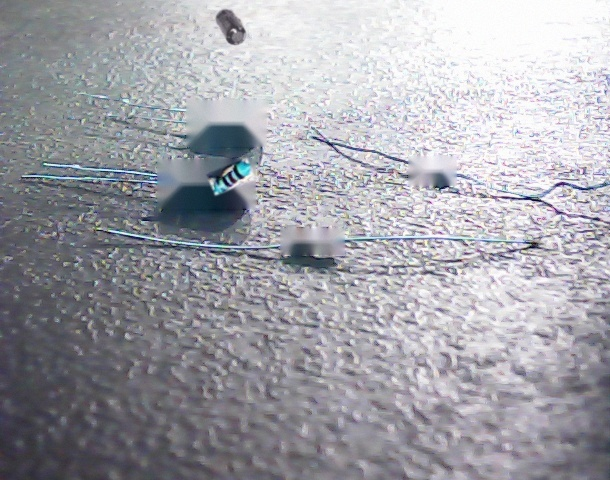capacitor: (215, 9, 247, 46)
resistor: (207, 158, 255, 195)
